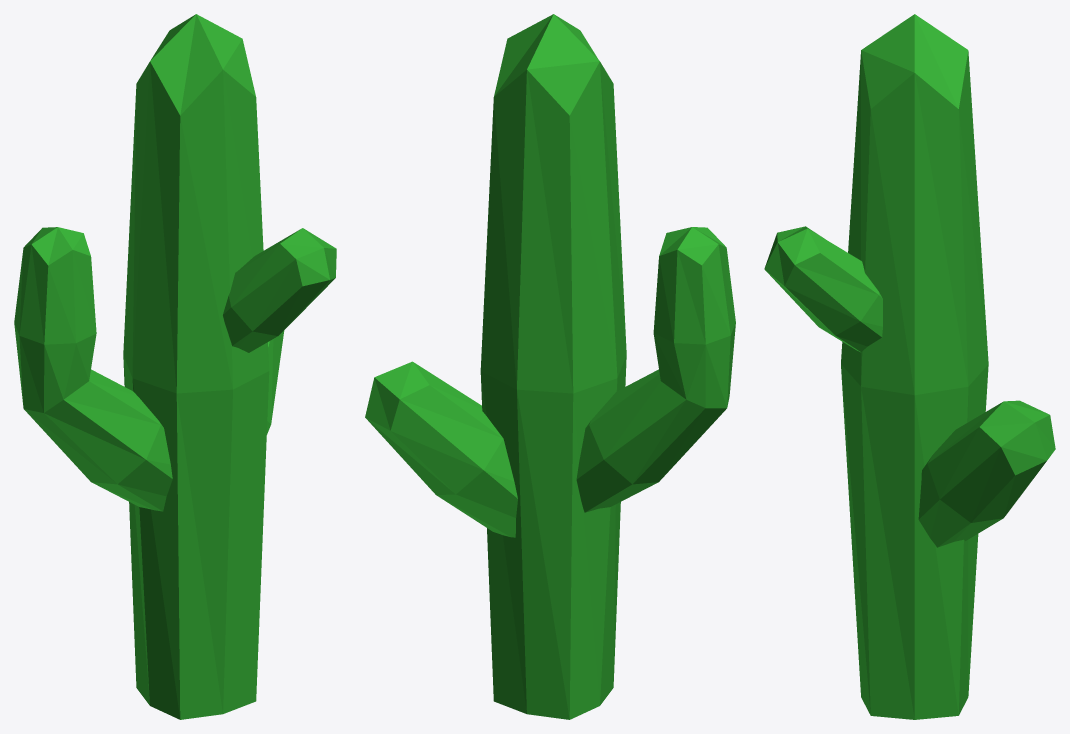
File: Cactus.obj
3 views of the same model, side by side, from view 1: azimuth 30°, elevation 25°; view 2: azimuth 150°, elevation 25°; view 3: azimuth 270°, elevation 25° (orthographic).
Parts seen in each view (by area): view 1: Cactus_Cube.007; view 2: Cactus_Cube.007; view 3: Cactus_Cube.007.
Boxes of the visible parts, x1,y1,x2,y2 form: Cactus_Cube.007: [14, 14, 336, 719]; Cactus_Cube.007: [365, 14, 735, 719]; Cactus_Cube.007: [764, 14, 1055, 719].
Bounding box in the file's own units: 1.28 × 2.68 × 1.04.
